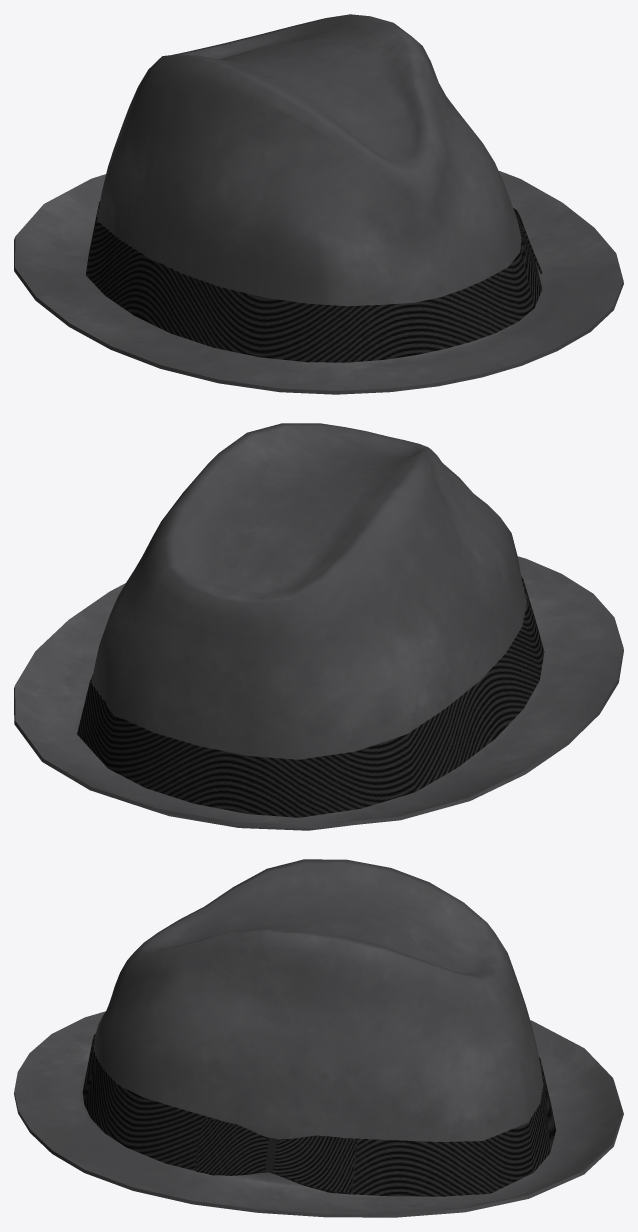
The model's file is Fedora.glb.
3 renders of one model, top to bottom at view 1: azimuth 30°, elevation 25°; view 2: azimuth 150°, elevation 25°; view 3: azimuth 270°, elevation 25°, orthographic. The views are drawn at different scales.
Visible parts, largest first — view 1: Fedora; view 2: Fedora; view 3: Fedora.
Boxes of the visible parts, x1,y1,x2,y2 form: Fedora: (14, 14, 623, 394); Fedora: (14, 423, 623, 830); Fedora: (14, 859, 623, 1217).
Size of the model in its own units: 1.19 by 0.5797 by 1.36.
Materials: 1 (1 with a texture image).
